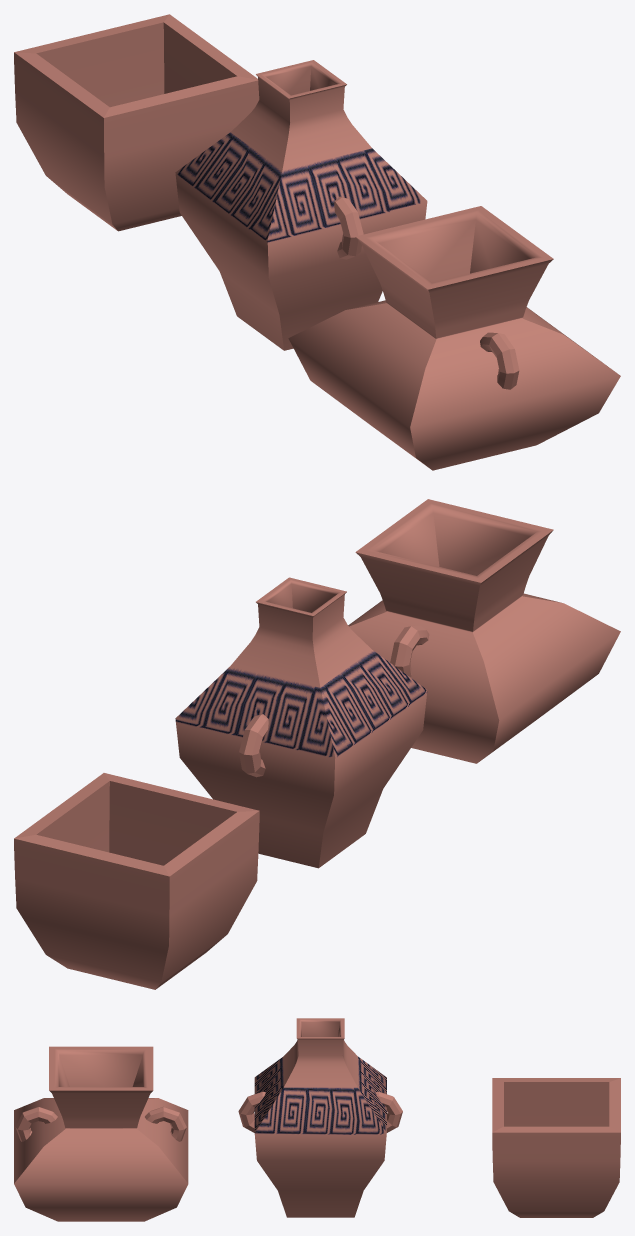
Rendered from POTS.fbx.
The picture shows the model from 3 angles, top to bottom: view 1: azimuth 30°, elevation 25°; view 2: azimuth 150°, elevation 25°; view 3: azimuth 270°, elevation 25°; orthographic projection. The views are drawn at different scales.
Parts seen in each view (by area): view 1: Pot1_Combined, Pot2_Combined, Bucket; view 2: Pot2_Combined, Pot1_Combined, Bucket; view 3: Pot1_Combined, Pot2_Combined, Bucket.
Part boxes in pixels (x1,y1,x2,y2): Pot1_Combined: (288, 206, 620, 470); Pot2_Combined: (175, 60, 427, 350); Bucket: (14, 14, 259, 231); Pot2_Combined: (175, 577, 427, 868); Pot1_Combined: (348, 499, 620, 763); Bucket: (14, 773, 259, 989); Pot1_Combined: (14, 1046, 188, 1221); Pot2_Combined: (238, 1018, 402, 1217); Bucket: (492, 1078, 620, 1217).
Size of the model in its own units: 1.3 by 1.46 by 4.53.
